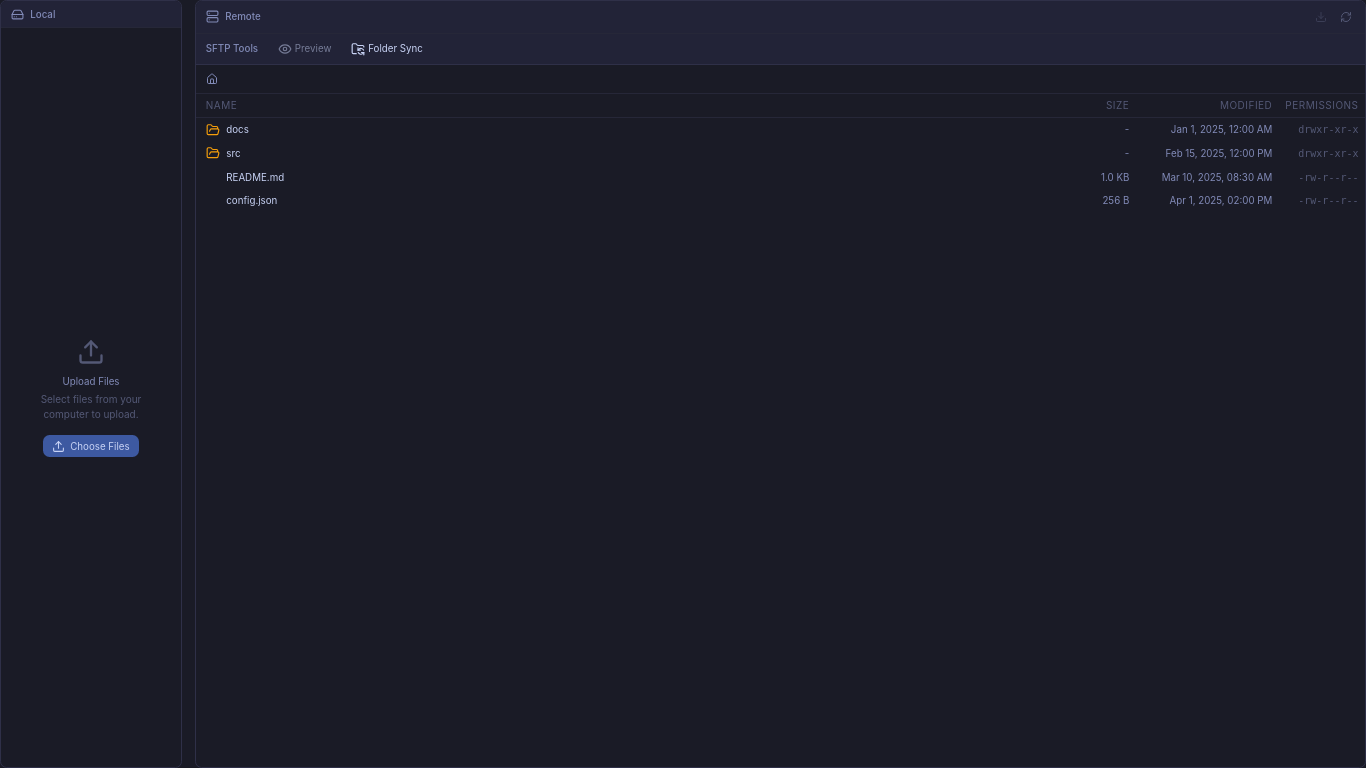
Test: SftpBrowser › FT-C-28: double-click directory enters it
The image size is (1366, 768).
Expected: the text "docs" is shown, [226,123,249,136]
# Double-click the "docs" directory row
Step 1. Double-click the text "docs" → point(1222, 130), box [196,117,1365,142]
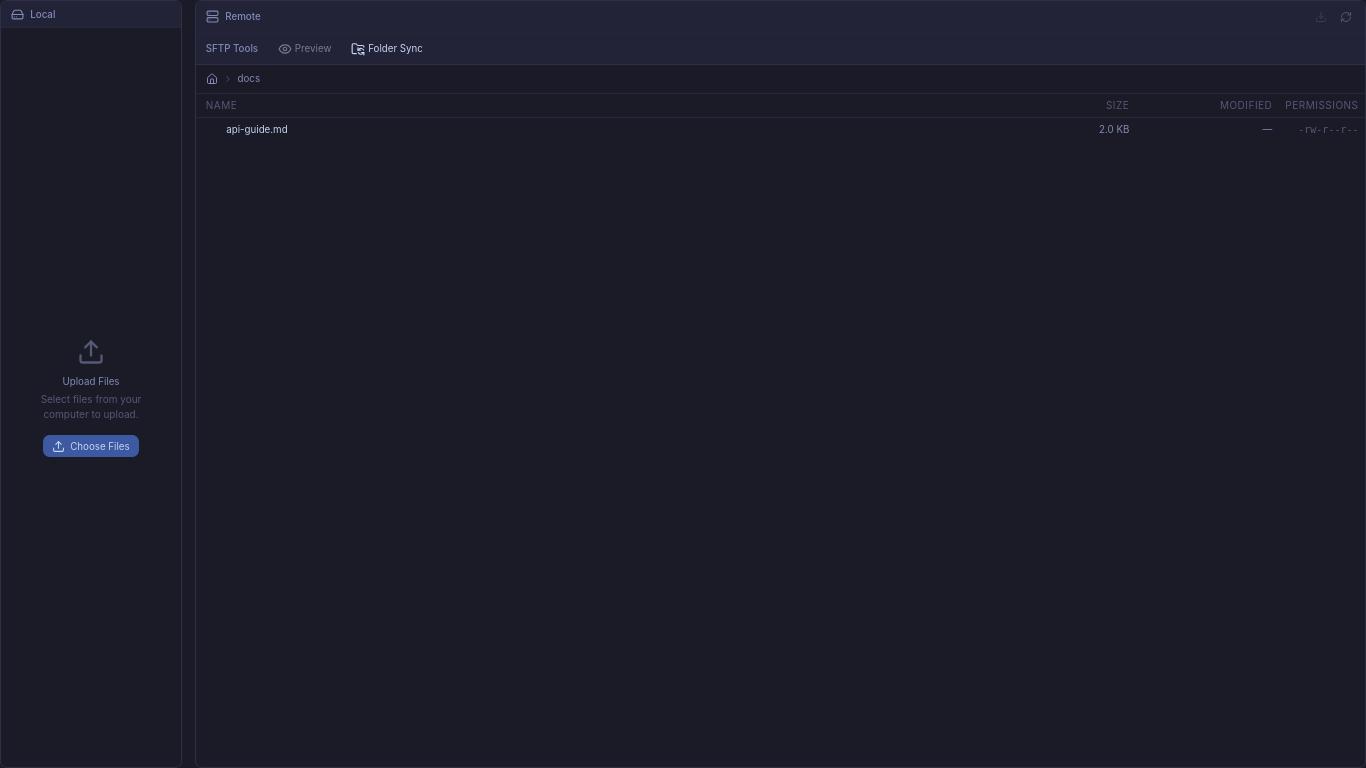
Expected: the text "api-guide.md" is shown, [226,123,288,136]
